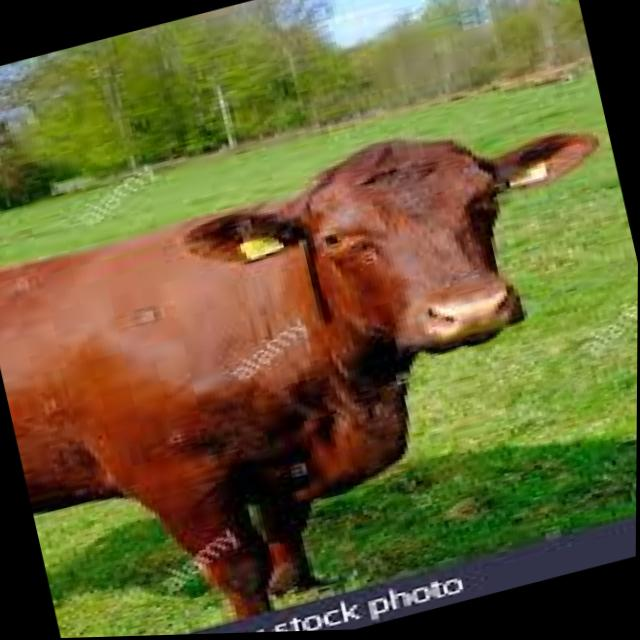cowFace: (138, 56, 640, 432)
